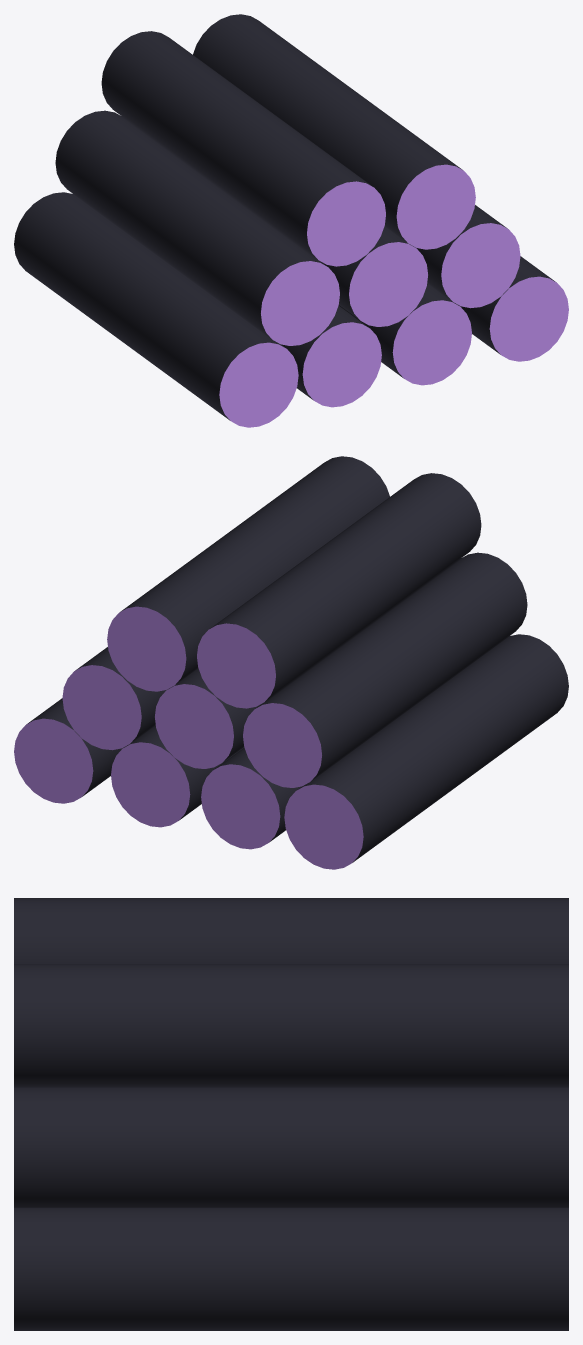
Rendered from log.fbx.
The picture shows the model from 3 angles, top to bottom: view 1: azimuth 30°, elevation 25°; view 2: azimuth 150°, elevation 25°; view 3: azimuth 270°, elevation 25°; orthographic projection. The views are drawn at different scales.
Parts seen in each view (by area): view 1: Group10, Group7, Group2, Group8, Group3, Group5, Group6, Group9, Group4; view 2: Group10, Group7, Group2, Group8, Group3, Group5, Group6, Group9, Group4; view 3: Group3, Group8, Group5, Group10.
Boxes of the visible parts, x1,y1,x2,y2 form: Group10: (101,31,385,266); Group7: (55,110,339,345); Group2: (14,192,298,427); Group8: (193,14,475,249); Group3: (458,256,568,361); Group5: (415,205,520,308); Group6: (338,283,471,385); Group9: (320,226,427,326); Group4: (281,305,381,407); Group10: (197,473,481,708); Group7: (243,552,527,787); Group2: (284,634,568,869); Group8: (107,456,389,691); Group3: (14,698,124,803); Group5: (62,647,167,750); Group6: (111,725,244,827); Group9: (155,668,262,768); Group4: (201,747,301,849); Group3: (14,1207,568,1330); Group8: (14,964,568,1087); Group5: (14,1087,568,1207); Group10: (14,898,568,963).
Bounding box in the file's own units: 54.56 × 33.22 × 55.5.
